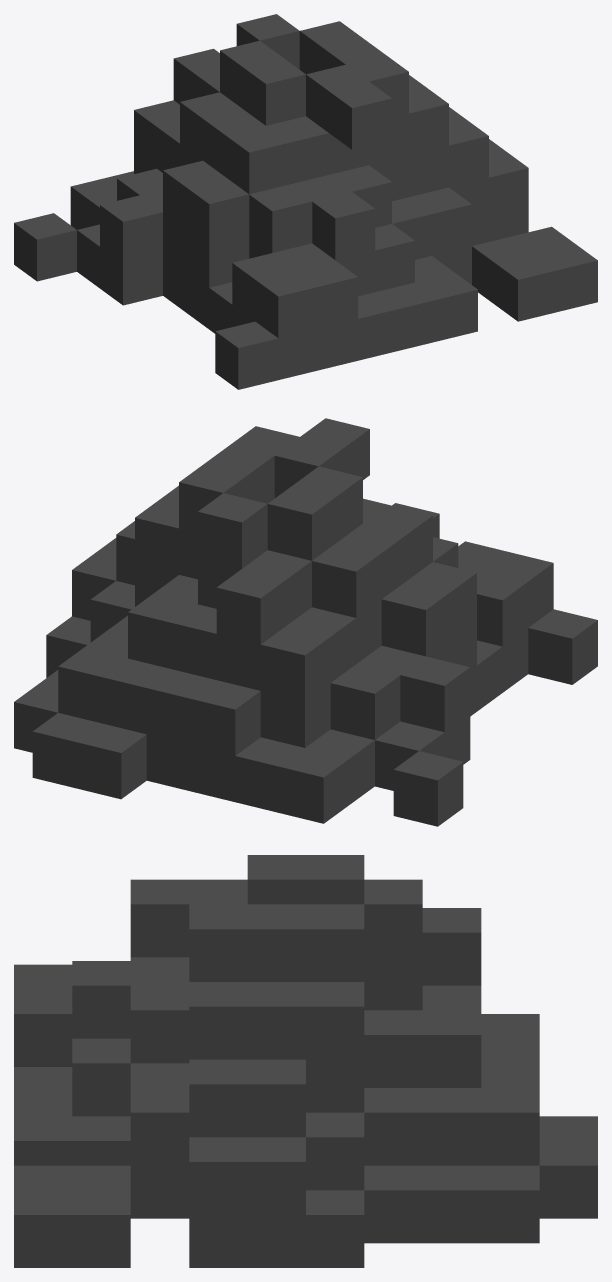
The model's file is Rocks.vox.obj.
3 views of the same model, one above another, from view 1: azimuth 30°, elevation 25°; view 2: azimuth 150°, elevation 25°; view 3: azimuth 270°, elevation 25° (orthographic). The views are drawn at different scales.
Size of the model in its own units: 1 by 0.5 by 1.
1 material, 1 textured.
